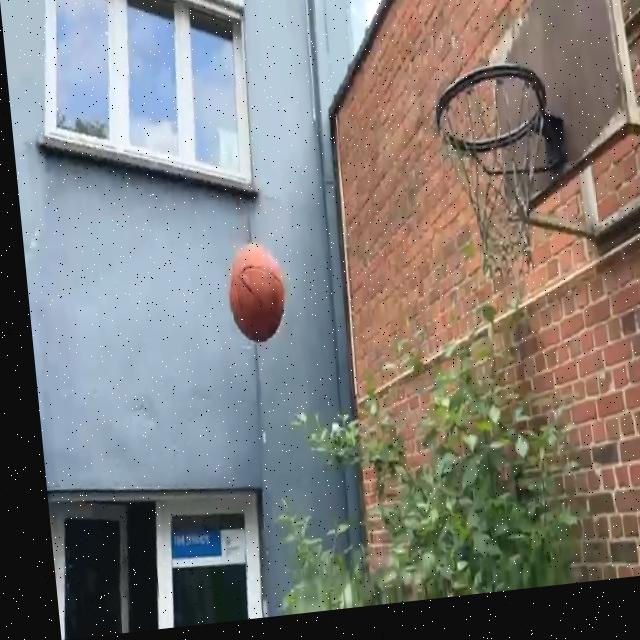Basketball: (224, 242, 288, 348)
